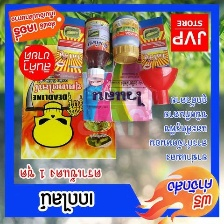book: (18, 39, 120, 162)
insecticide: (79, 33, 156, 125), (134, 15, 172, 79), (82, 15, 114, 83), (50, 22, 86, 81), (109, 13, 144, 66)
